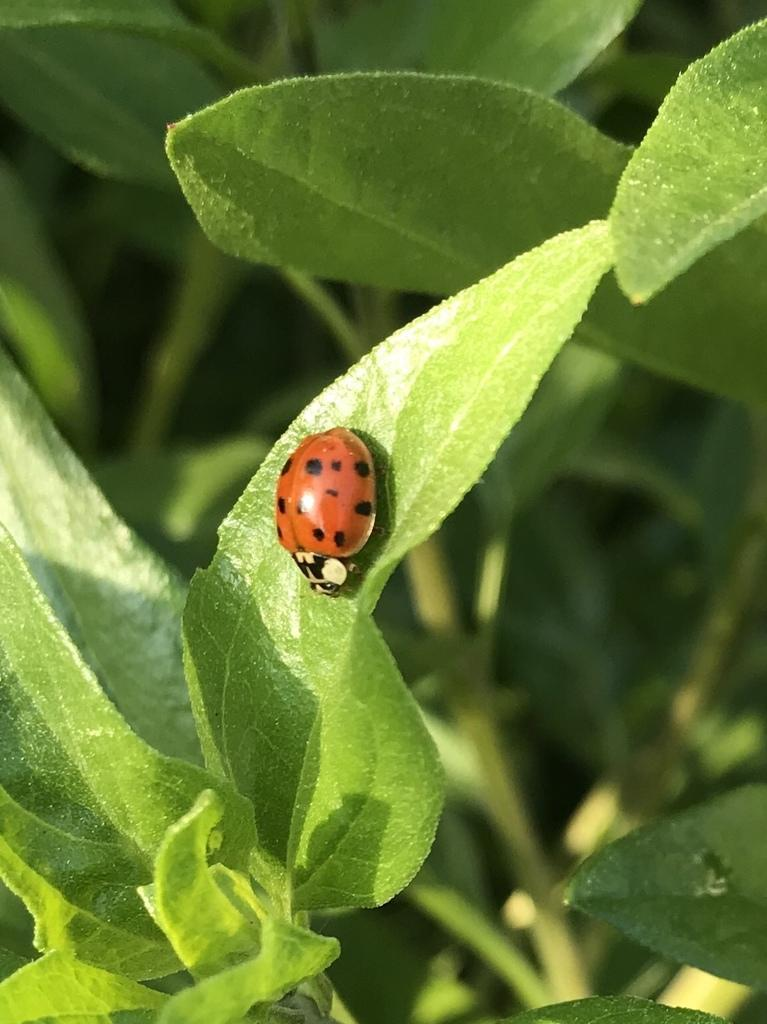ladybug: (274, 424, 381, 600)
